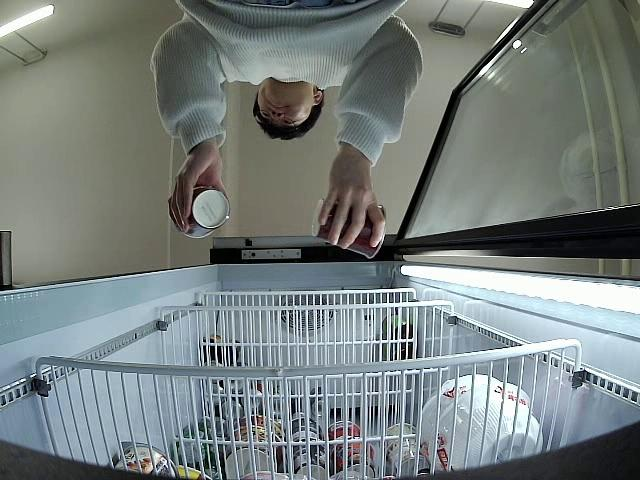00_hand: (316, 145, 385, 252), (166, 144, 224, 236)
06_nuguri_S: (309, 196, 388, 261), (168, 183, 230, 240)
